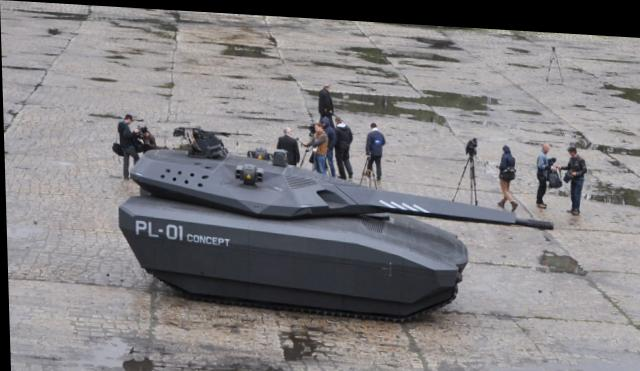other: (563, 140, 584, 210), (532, 134, 553, 199), (496, 135, 515, 203), (365, 116, 385, 174), (333, 113, 353, 166), (117, 112, 133, 173), (274, 120, 298, 156), (307, 118, 326, 160), (316, 76, 332, 109), (318, 111, 333, 136)
tank: (125, 141, 463, 308)
